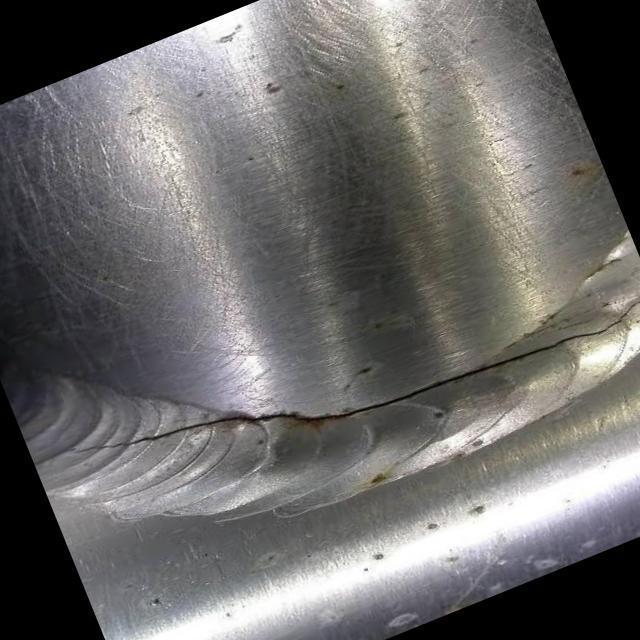defect: (53, 292, 640, 455)
